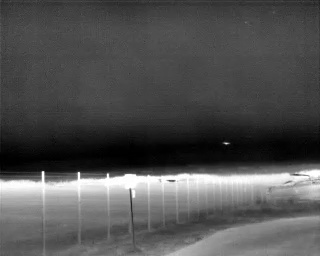AIRPLANE: (222, 139, 231, 147)
